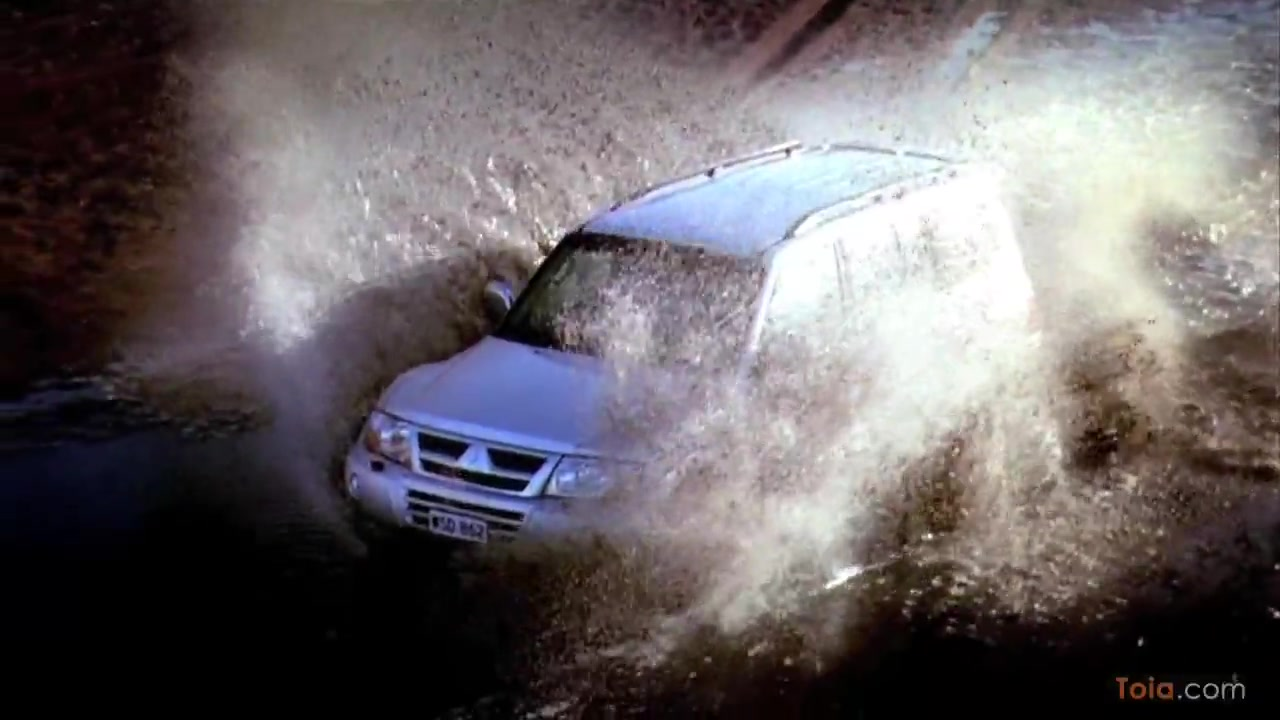car: (338, 128, 1049, 578)
